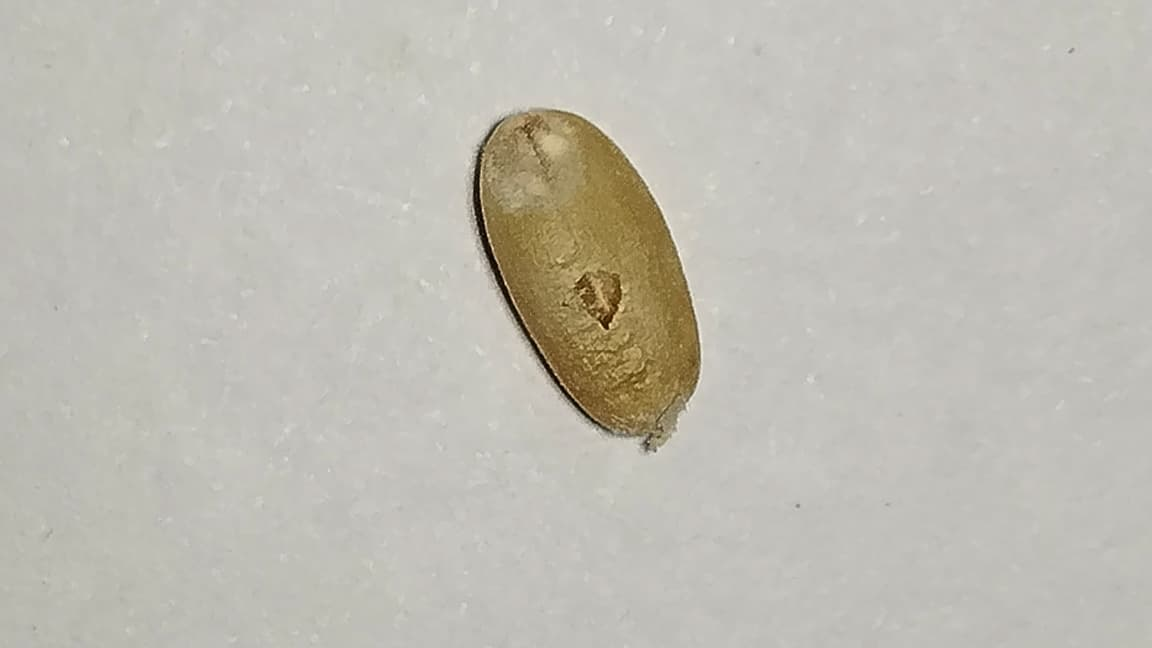damage: (481, 111, 699, 434)
insectdamage: (483, 112, 584, 215), (563, 261, 636, 334)
molddamage: (640, 394, 691, 454)
